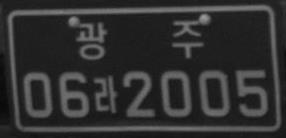0: (198, 69, 231, 117), (160, 69, 192, 118), (22, 70, 53, 119)
2: (122, 70, 156, 118)
5: (234, 68, 268, 118)
6: (57, 70, 90, 118)
광주_D: (74, 18, 203, 61)
라: (93, 74, 118, 113)
